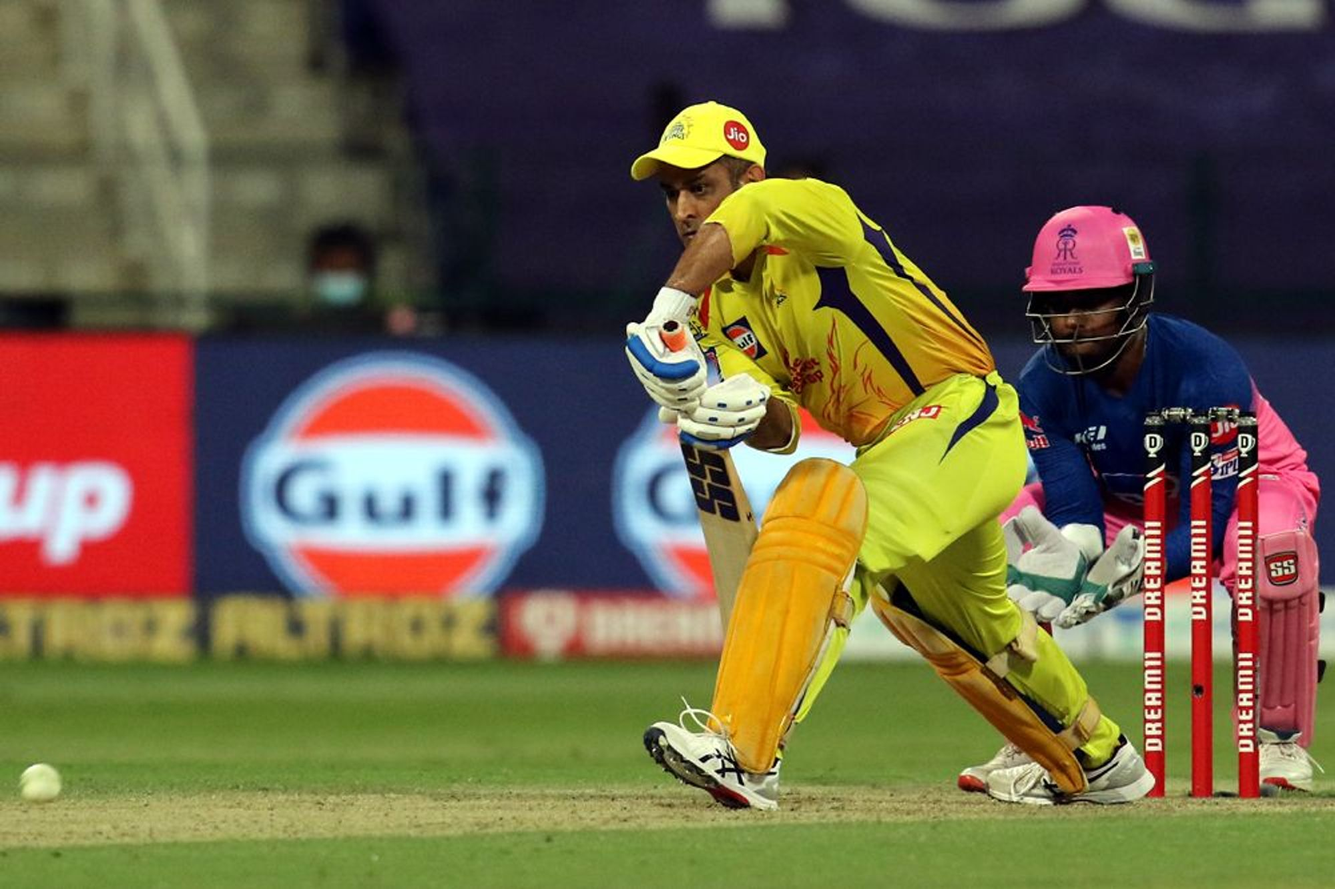Defence: (242, 35, 1238, 864)
